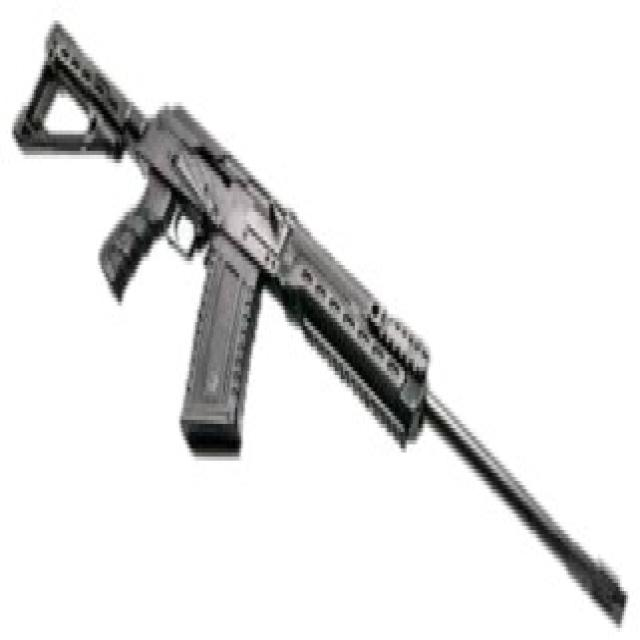rifle: (14, 14, 633, 636)
